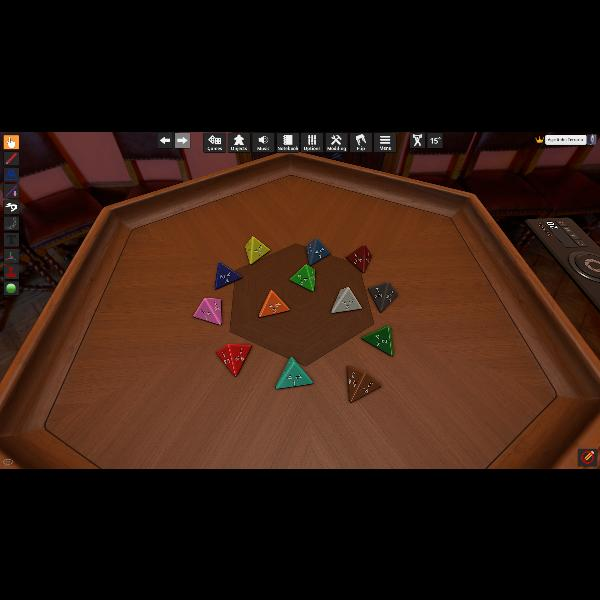d4: (346, 366, 380, 403), (276, 357, 312, 390), (217, 342, 251, 374), (361, 325, 393, 355), (368, 281, 398, 313), (259, 290, 291, 318), (193, 296, 221, 326), (214, 262, 242, 290), (332, 286, 360, 314), (346, 244, 372, 274), (290, 264, 316, 292), (245, 235, 269, 265), (306, 238, 328, 266)
